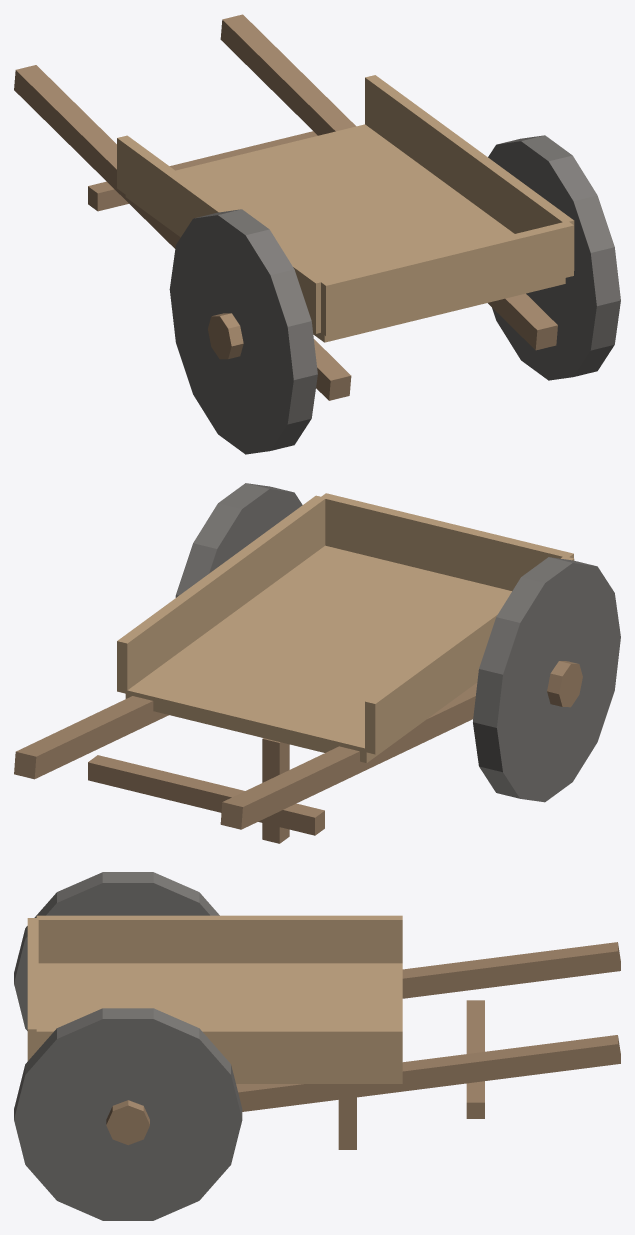
File: prop-cart-wood.fbx
3 views of the same model, one above another, from view 1: azimuth 30°, elevation 25°; view 2: azimuth 150°, elevation 25°; view 3: azimuth 270°, elevation 25° (orthographic). The views are drawn at different scales.
Parts seen in each view (by area): view 1: prop-cart-wood; view 2: prop-cart-wood; view 3: prop-cart-wood.
Part boxes in pixels (<box>): prop-cart-wood: <box>14,14,620,454</box>; prop-cart-wood: <box>14,483,620,843</box>; prop-cart-wood: <box>14,872,620,1220</box>.
Bounding box in the file's own units: 1.02 × 0.6084 × 1.66.
